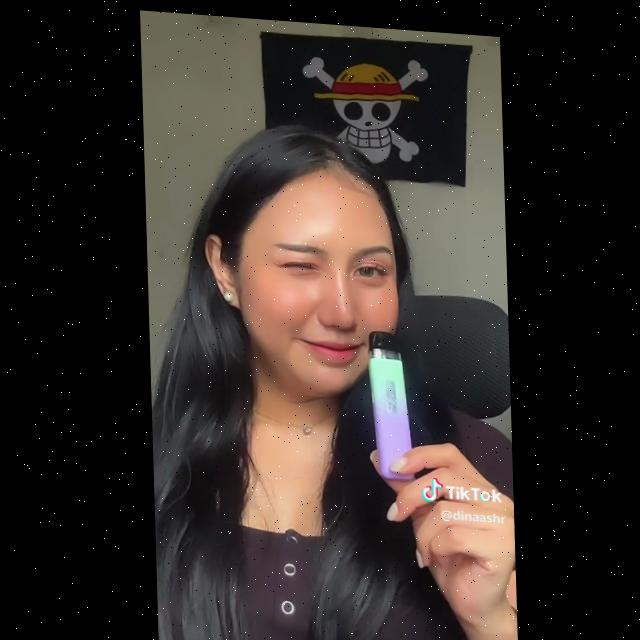vape: (365, 324, 412, 474)
